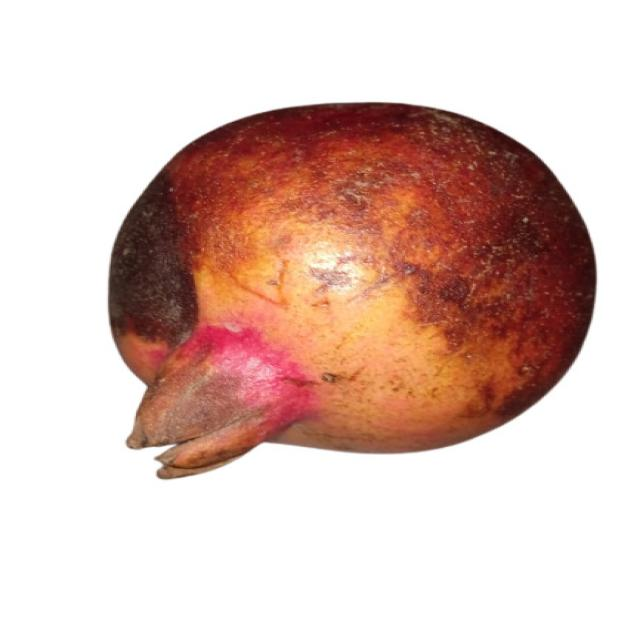Rotten: (104, 92, 604, 480)
